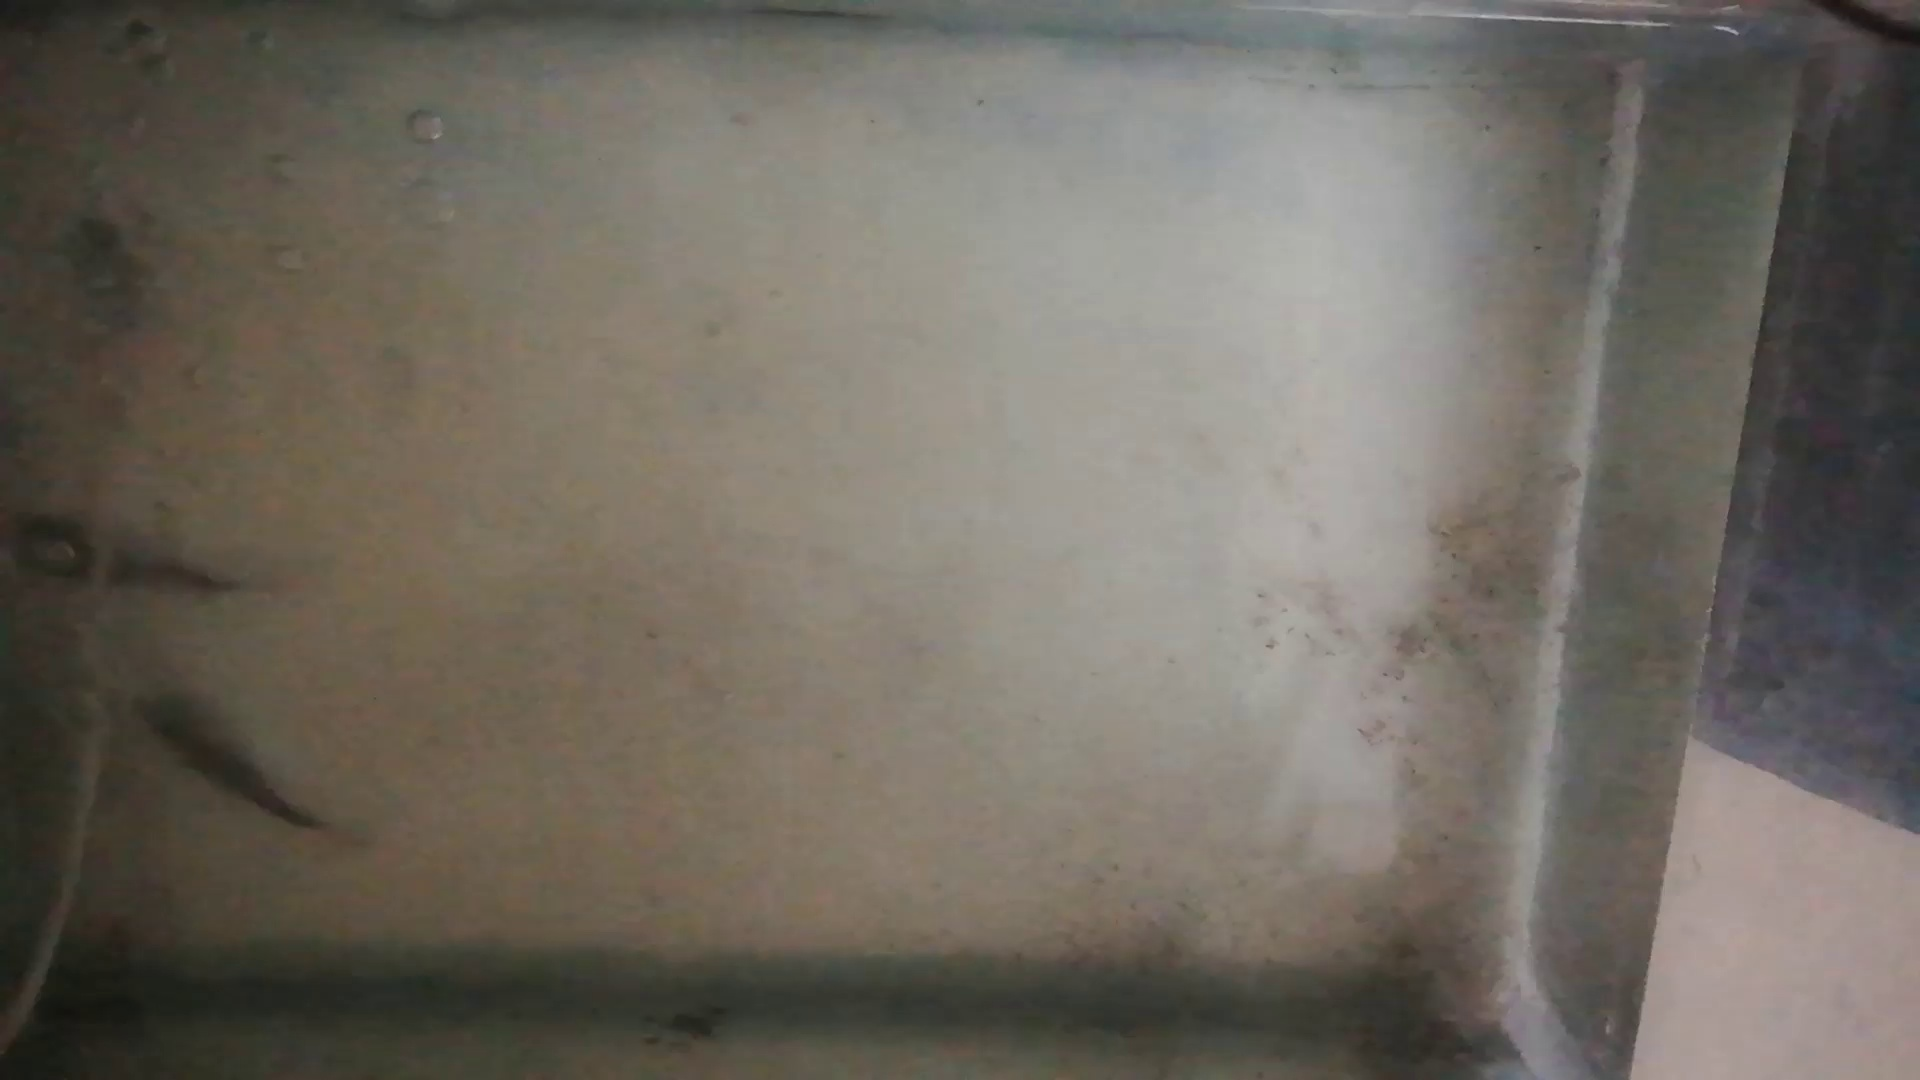fish: (135, 692, 322, 829), (20, 517, 231, 591)
